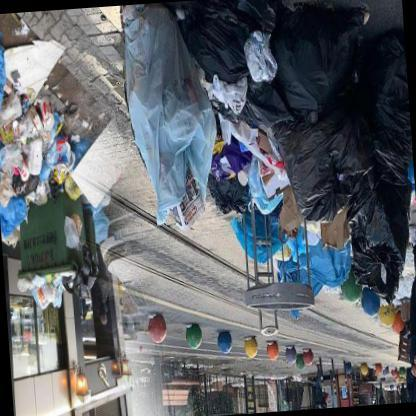Garbage: (302, 92, 415, 281), (283, 3, 411, 148), (123, 0, 239, 151), (272, 84, 358, 226), (356, 125, 414, 287), (149, 94, 212, 226), (0, 72, 58, 209), (207, 105, 277, 215), (303, 169, 350, 288), (0, 39, 55, 119), (34, 101, 80, 182), (0, 142, 20, 242)
